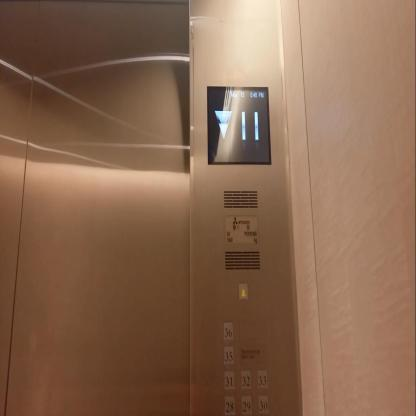28: (223, 395, 235, 415)
29: (240, 394, 252, 414)
30: (257, 392, 269, 416)
31: (223, 369, 235, 390)
32: (240, 369, 252, 391)
33: (256, 368, 268, 389)
35: (223, 345, 235, 365)
36: (222, 320, 235, 342)
alarm: (237, 280, 249, 302)
led: (205, 83, 273, 166)
